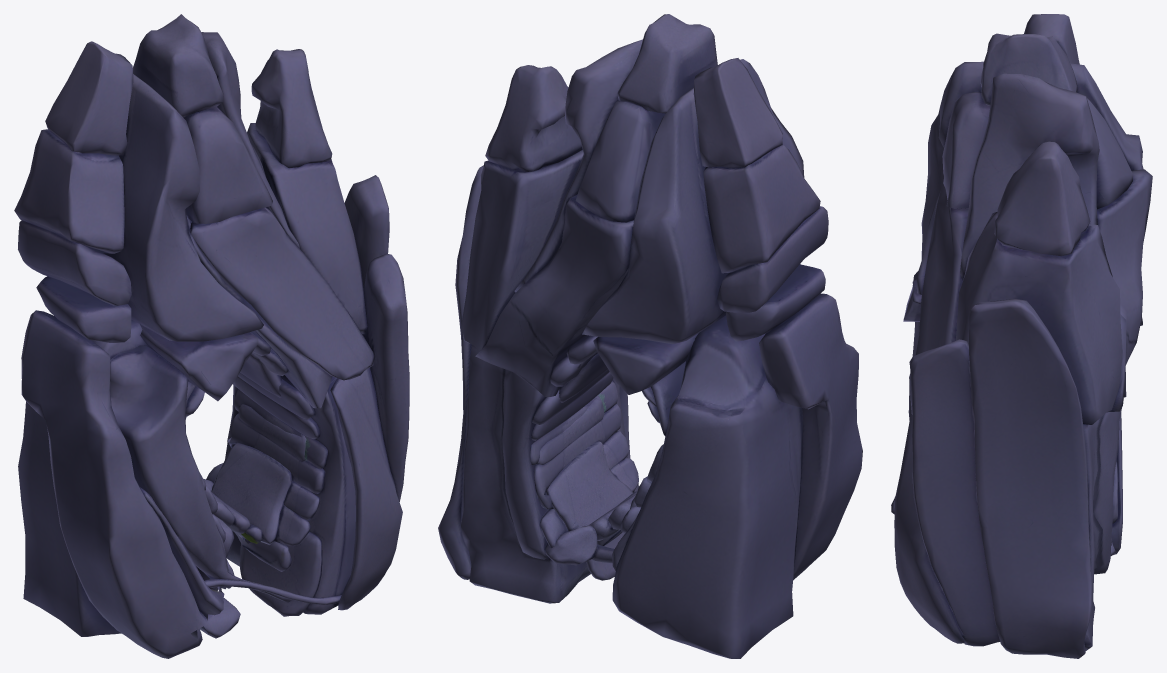
Rendered from spooky-escarpment.glb.
The picture shows the model from 3 angles, left to right: view 1: azimuth 30°, elevation 25°; view 2: azimuth 150°, elevation 25°; view 3: azimuth 270°, elevation 25°; orthographic projection. The views are drawn at different scales.
Visible parts, largest first — view 1: spooky-escarpment; view 2: spooky-escarpment; view 3: spooky-escarpment.
Part boxes in pixels (x1,y1,x2,y2): spooky-escarpment: (14,14,409,658); spooky-escarpment: (438,14,862,658); spooky-escarpment: (891,14,1152,658).
Size of the model in its own units: 0.6286 by 1 by 0.4344.
Materials: 1 (1 with a texture image).
